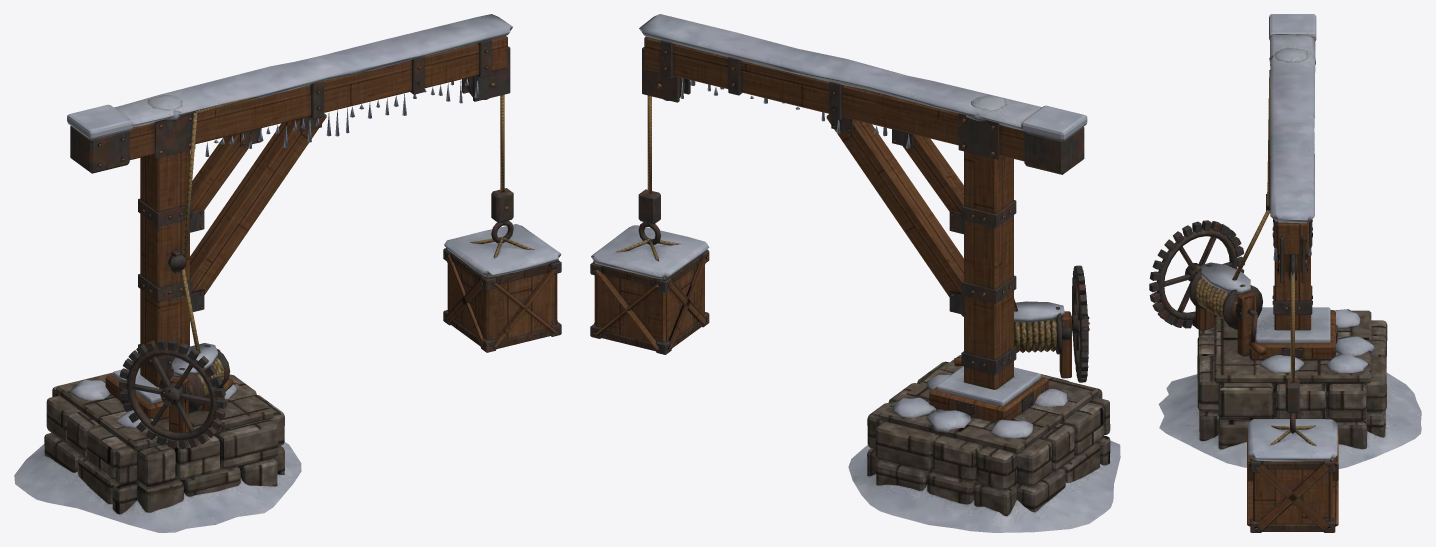
The model's file is crane.glb.
The picture shows the model from 3 angles, left to right: view 1: azimuth 30°, elevation 25°; view 2: azimuth 150°, elevation 25°; view 3: azimuth 270°, elevation 25°; orthographic projection. The views are drawn at different scales.
Parts seen in each view (by area): view 1: model; view 2: model; view 3: model.
Part boxes in pixels (x1=…): model: x1=14, y1=14, x2=561, y2=532; model: x1=590, y1=14, x2=1120, y2=532; model: x1=1149, y1=14, x2=1421, y2=532.
Bounding box in the file's own units: 5.25 × 3.75 × 2.53.
Materials: 1 (1 with a texture image).
